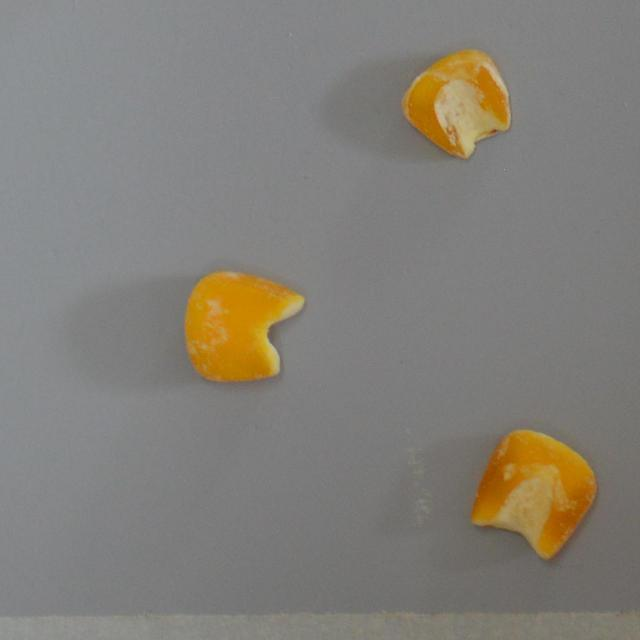pelicula: (470, 424, 596, 560), (180, 268, 304, 381), (398, 46, 514, 160)
